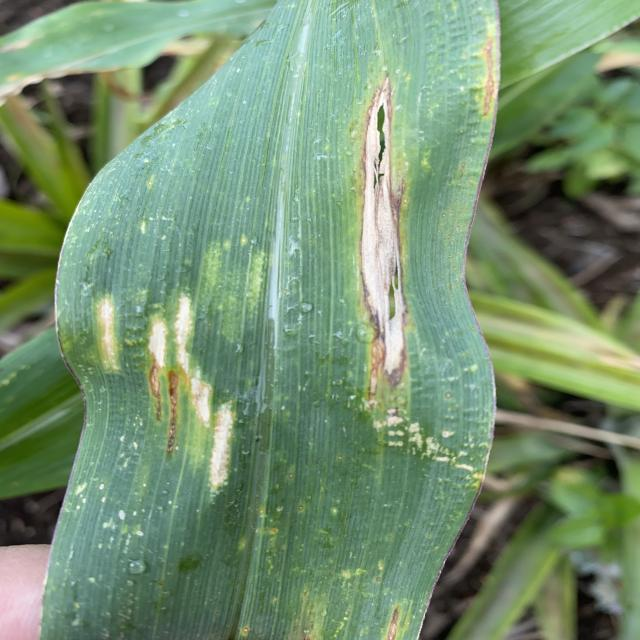Corn_Leaf_Blight: (45, 0, 505, 640)
